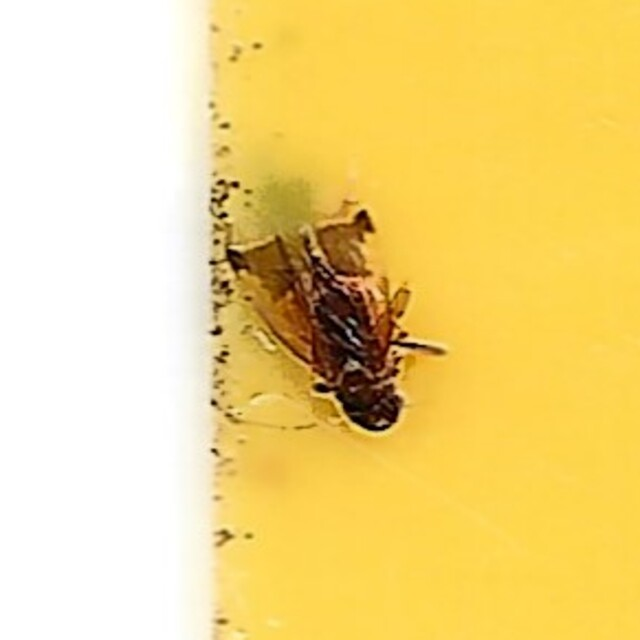Hemiptera: (220, 199, 420, 441)
